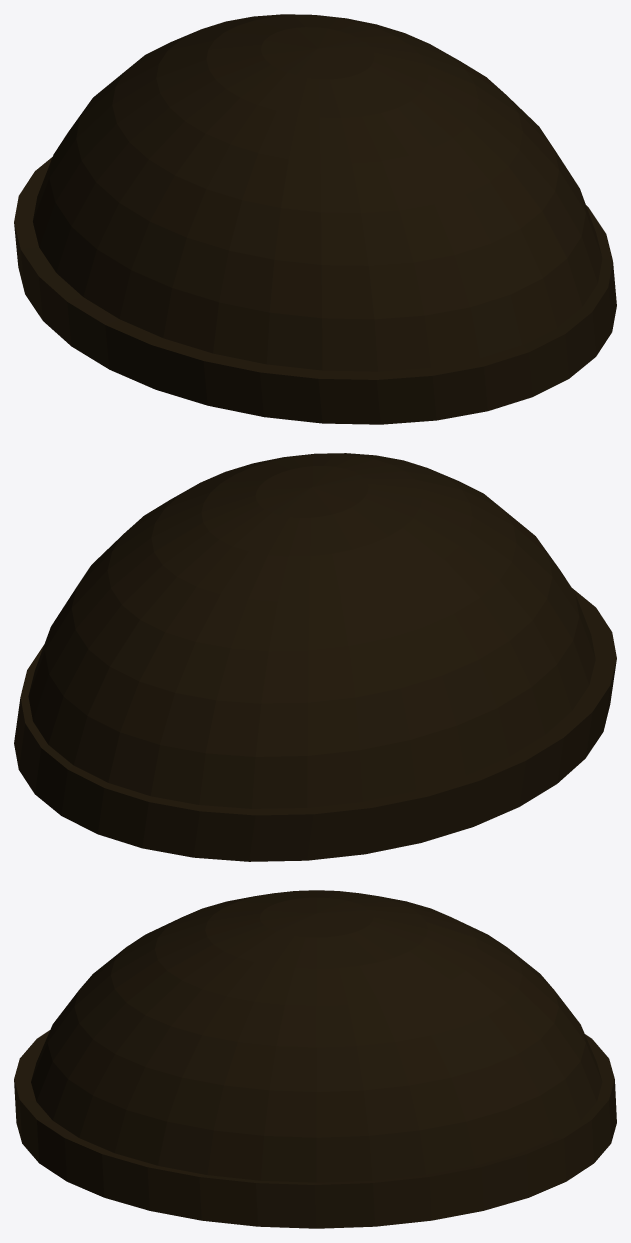
The model's file is berretto.fbx.
The picture shows the model from 3 angles, top to bottom: view 1: azimuth 30°, elevation 25°; view 2: azimuth 150°, elevation 25°; view 3: azimuth 270°, elevation 25°; orthographic projection. The views are drawn at different scales.
Visible parts, largest first — view 1: Sphere; view 2: Sphere; view 3: Sphere.
Boxes of the visible parts, x1=… form: Sphere: x1=14, y1=14, x2=616, y2=424; Sphere: x1=14, y1=453, x2=616, y2=861; Sphere: x1=14, y1=890, x2=616, y2=1228.
Bounding box in the file's own units: 174 × 79.31 × 207.
